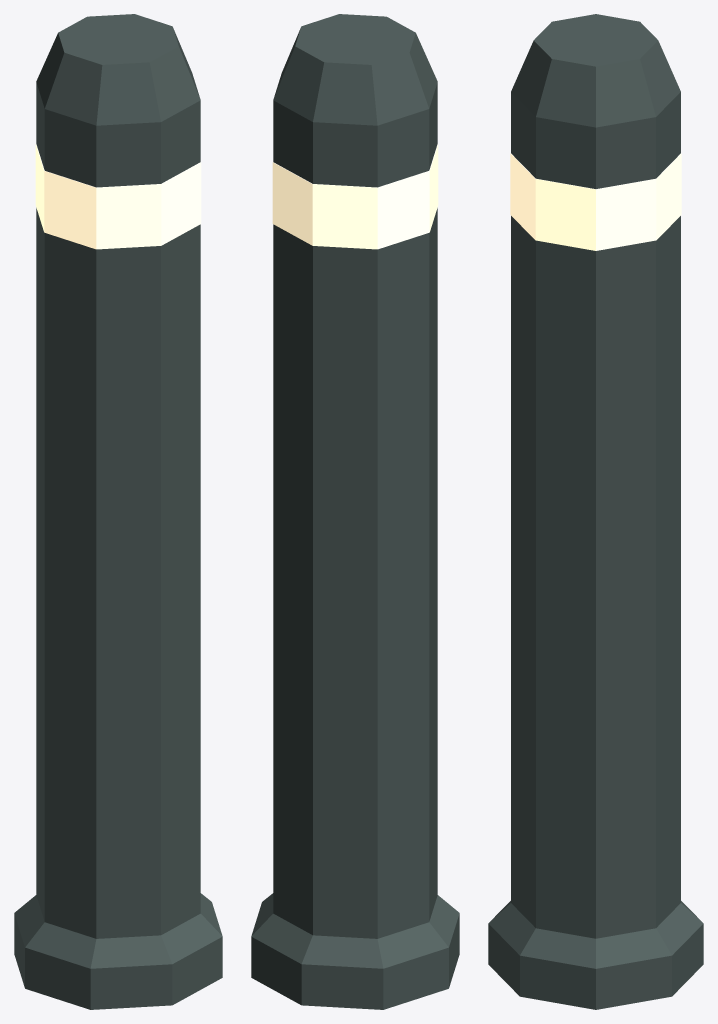
File: bollard.lod1.glb
3 views of the same model, side by side, from view 1: azimuth 30°, elevation 25°; view 2: azimuth 150°, elevation 25°; view 3: azimuth 270°, elevation 25° (orthographic).
Parts seen in each view (by area): view 1: metal, diffuser; view 2: metal, diffuser; view 3: metal, diffuser.
Boxes of the visible parts, x1,y1,x2,y2 form: metal: (14, 14, 222, 1009); diffuser: (35, 143, 201, 249); metal: (251, 14, 459, 1009); diffuser: (272, 143, 438, 249); metal: (488, 14, 703, 1009); diffuser: (510, 153, 681, 250).
Size of the model in its own units: 0.19 by 0.9 by 0.19.
